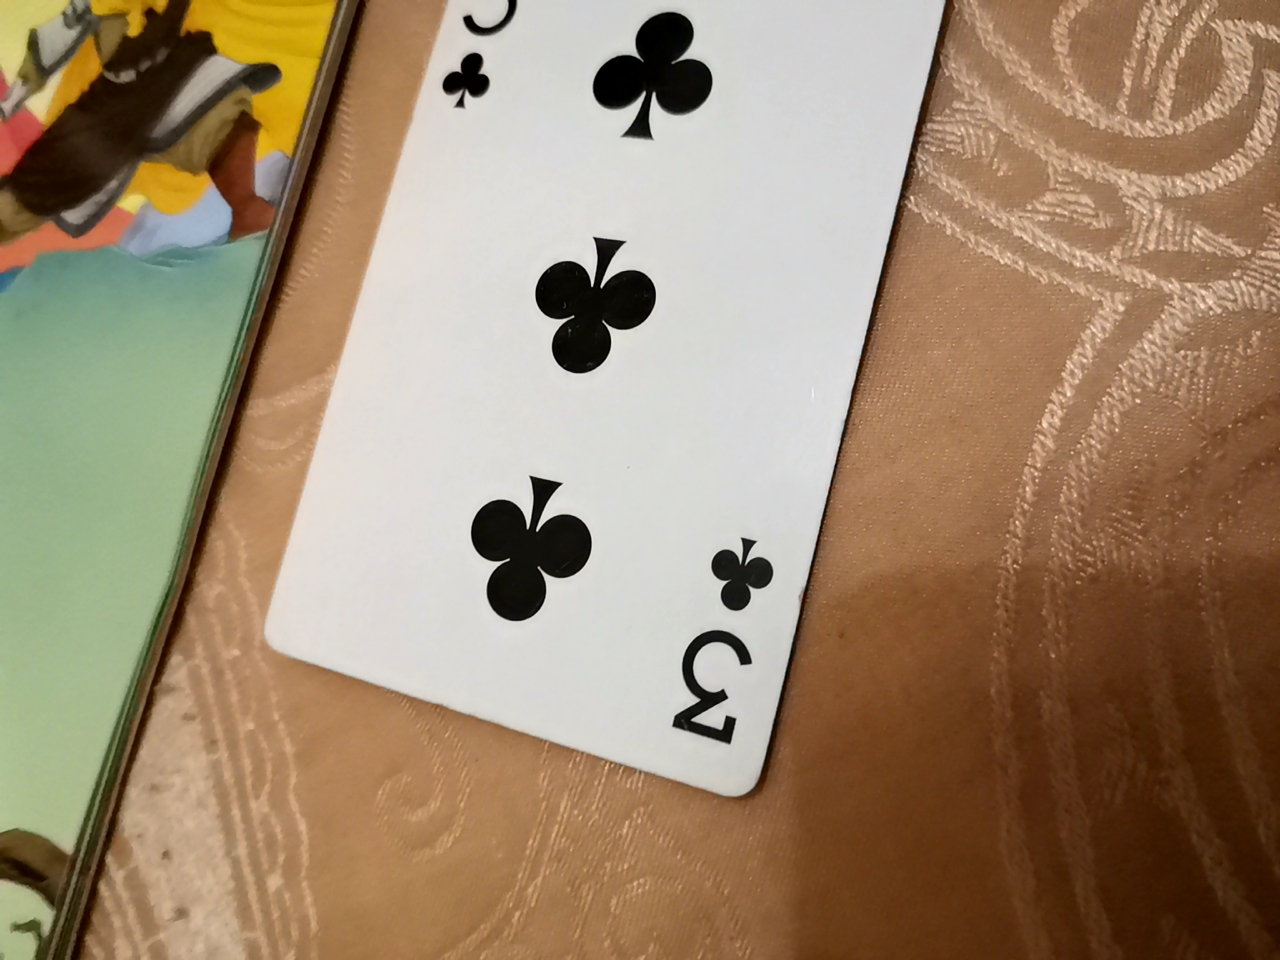mh 3: (293, 5, 984, 768)
